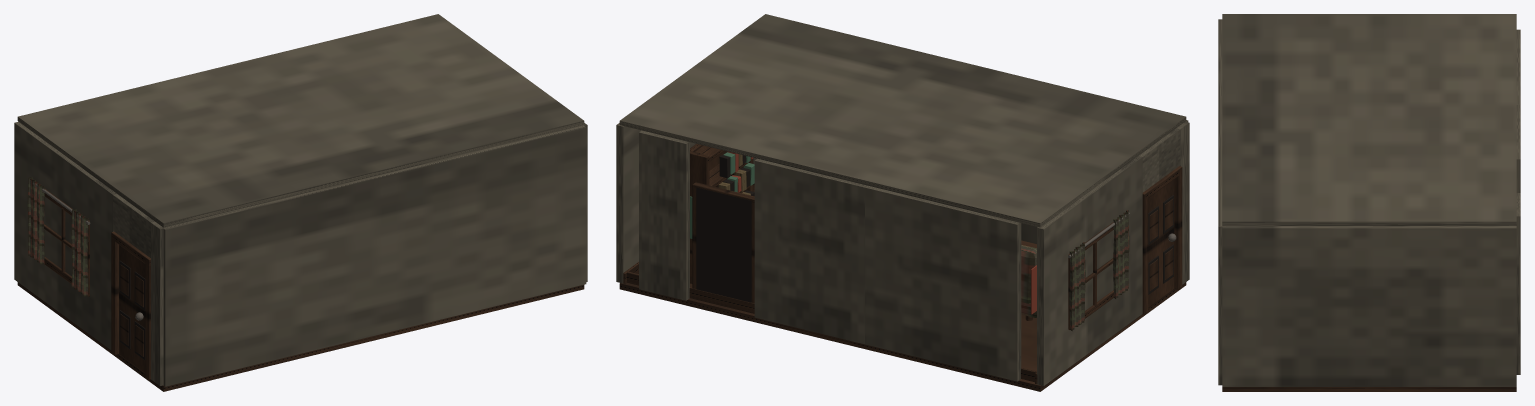
File: lonely-street-house-interior-staged.glb
The picture shows the model from 3 angles, left to right: view 1: azimuth 30°, elevation 25°; view 2: azimuth 150°, elevation 25°; view 3: azimuth 270°, elevation 25°; orthographic projection.
Visible parts, largest first — view 1: SM_lonely_house_interior_shell_GrimyPlaster, SM_FrontWall, SM_Floor, SM_lonely_house_curtained_window_DirtyCurtainPlaid, SM_lonely_house_worn_door_DarkWood, SM_lonely_house_worn_door_frame_DarkWood, SM_lonely_house_curtained_window_DarkWood, SM_lonely_house_worn_door_SootBlack; view 2: SM_lonely_house_interior_shell_GrimyPlaster, SM_HallRecess, SM_Floor, SM_lonely_house_worn_door_DarkWood, SM_lonely_house_curtained_window_DirtyCurtainPlaid, SM_lonely_house_interior_shell_DarkWood, SM_lonely_house_worn_door_frame_DarkWood, SM_lonely_house_bookcase_DarkWood, SM_lonely_house_curtained_window_DarkWood, SM_lonely_house_plaid_sofa_WornPlaid, SM_lonely_house_worn_door_SootBlack, SM_lonely_house_bookcase_SootBlack; view 3: SM_lonely_house_interior_shell_GrimyPlaster, SM_FrontWall, SM_Floor.
Boxes of the visible parts, x1,y1,x2,y2 form: SM_lonely_house_interior_shell_GrimyPlaster: (14,14,587,385); SM_FrontWall: (163,125,586,386); SM_Floor: (17,282,584,391); SM_lonely_house_curtained_window_DirtyCurtainPlaid: (27,177,88,297); SM_lonely_house_worn_door_DarkWood: (119,245,145,373); SM_lonely_house_worn_door_frame_DarkWood: (111,231,150,379); SM_lonely_house_curtained_window_DarkWood: (39,184,89,296); SM_lonely_house_worn_door_SootBlack: (119,260,145,359); SM_lonely_house_interior_shell_GrimyPlaster: (616,14,1189,385); SM_HallRecess: (696,187,751,302); SM_Floor: (619,189,1186,391); SM_lonely_house_worn_door_DarkWood: (1148,179,1174,307); SM_lonely_house_curtained_window_DirtyCurtainPlaid: (1069,210,1129,331); SM_lonely_house_interior_shell_DarkWood: (623,182,1037,384); SM_lonely_house_worn_door_frame_DarkWood: (1142,166,1182,314); SM_lonely_house_bookcase_DarkWood: (690,144,753,196); SM_lonely_house_curtained_window_DarkWood: (1068,218,1117,329); SM_lonely_house_plaid_sofa_WornPlaid: (1021,245,1036,317); SM_lonely_house_worn_door_SootBlack: (1148,195,1173,294); SM_lonely_house_bookcase_SootBlack: (719,155,754,196); SM_lonely_house_interior_shell_GrimyPlaster: (1222,14,1520,386); SM_FrontWall: (1218,19,1225,385); SM_Floor: (1222,387,1516,391).
Size of the model in its own units: 8.29 by 3.06 by 4.93.
Materials: 19 (8 with a texture image).
